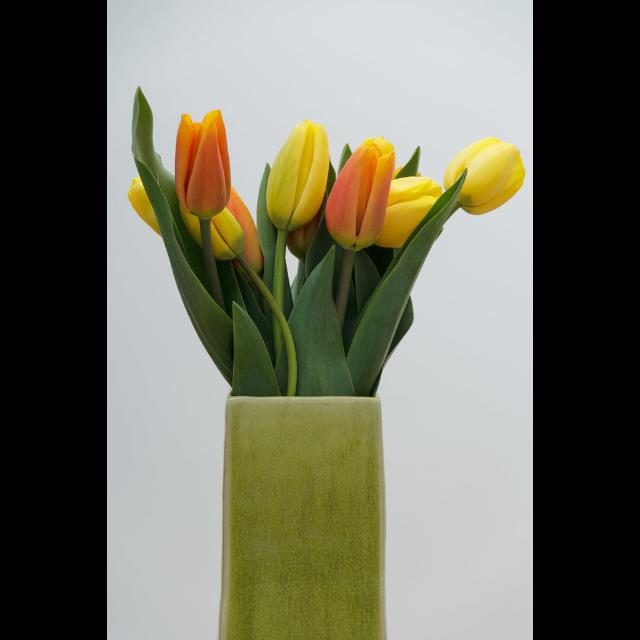Flower: (127, 105, 525, 268)
